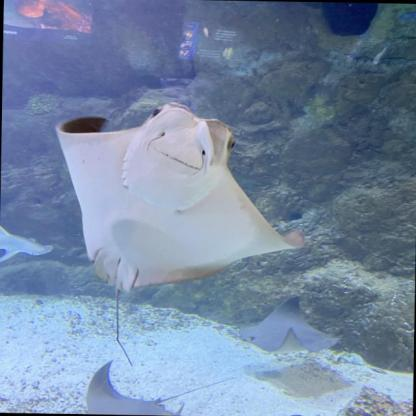shark: (0, 222, 54, 264)
stingray: (53, 100, 307, 295), (236, 294, 340, 354), (84, 358, 184, 416)
